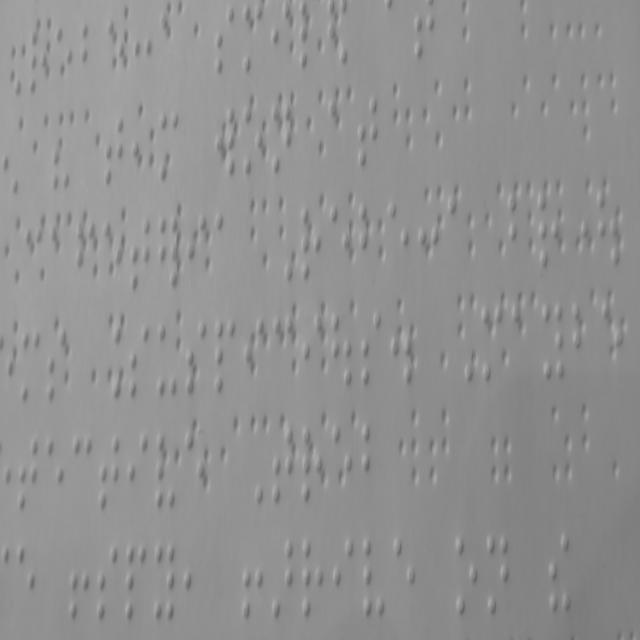braiile: (360, 529, 388, 625), (538, 298, 566, 390), (298, 416, 326, 506), (330, 532, 356, 628), (271, 418, 296, 514), (598, 292, 624, 384), (453, 526, 479, 618), (391, 534, 416, 626), (270, 94, 294, 185), (124, 537, 148, 628), (384, 197, 409, 284), (301, 534, 325, 624), (570, 298, 594, 388), (486, 528, 510, 618), (182, 316, 208, 398), (271, 311, 295, 399), (536, 190, 561, 274), (184, 426, 208, 513), (358, 200, 382, 286), (301, 308, 324, 397), (98, 430, 122, 514), (506, 189, 530, 273), (480, 301, 504, 385), (361, 302, 383, 393), (330, 417, 352, 507), (152, 540, 176, 622), (213, 312, 235, 401), (44, 429, 66, 518), (300, 200, 322, 288), (511, 299, 533, 387), (360, 418, 383, 502), (96, 540, 119, 624), (356, 90, 379, 173), (294, 0, 319, 75), (242, 98, 264, 182), (126, 431, 150, 508), (214, 101, 236, 184), (241, 0, 264, 78), (213, 209, 236, 286), (154, 431, 177, 508), (243, 313, 264, 397), (328, 204, 350, 284), (104, 15, 126, 94), (72, 432, 92, 518), (214, 2, 236, 80), (16, 434, 38, 512), (158, 318, 178, 402), (158, 10, 180, 86), (186, 211, 208, 287), (104, 112, 125, 190), (28, 26, 50, 100), (270, 0, 292, 74), (17, 541, 37, 622), (79, 19, 100, 96), (128, 318, 148, 398), (129, 217, 150, 293), (74, 218, 96, 290), (160, 107, 180, 186), (47, 328, 68, 403), (101, 216, 122, 289), (20, 328, 40, 403), (50, 223, 71, 291), (53, 24, 72, 96)
